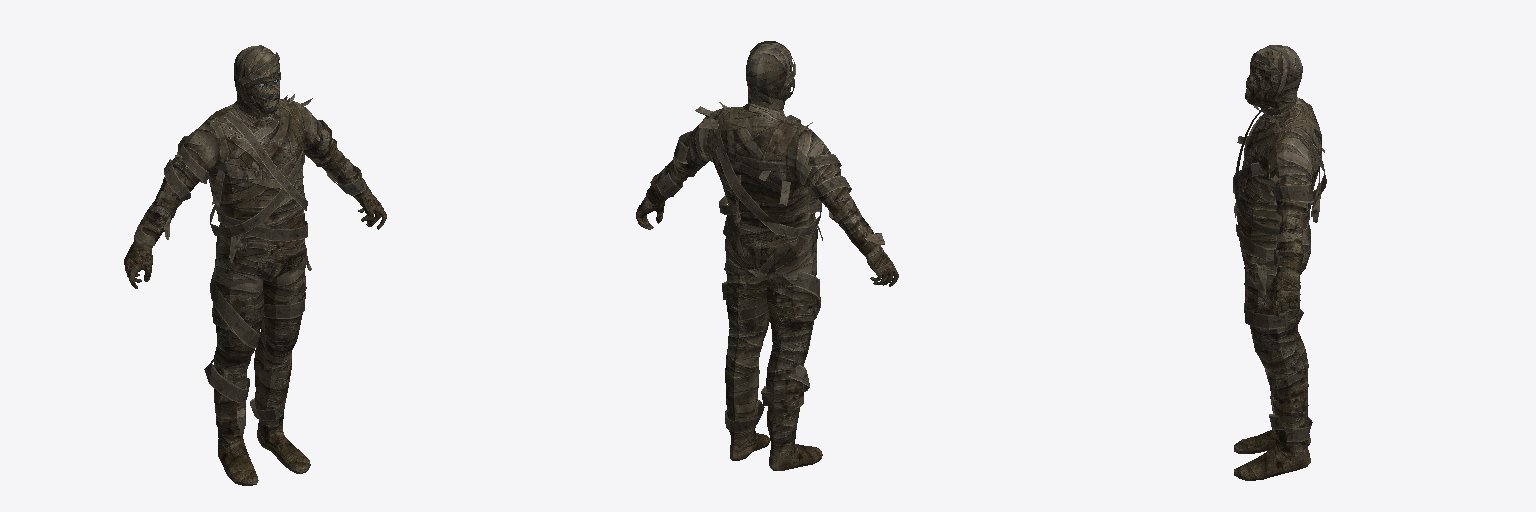
3 renders of one model, left to right at view 1: azimuth 30°, elevation 25°; view 2: azimuth 150°, elevation 25°; view 3: azimuth 270°, elevation 25°, orthographic.
Visible parts, largest first — view 1: mummy; view 2: mummy; view 3: mummy.
Boxes of the visible parts, <box> form: mummy: <box>124,45,386,485</box>; mummy: <box>636,41,898,470</box>; mummy: <box>1233,45,1326,480</box>.
Bounding box in the file's own units: 2.44 × 3.79 × 0.7741.
Materials: 1 (1 with a texture image).